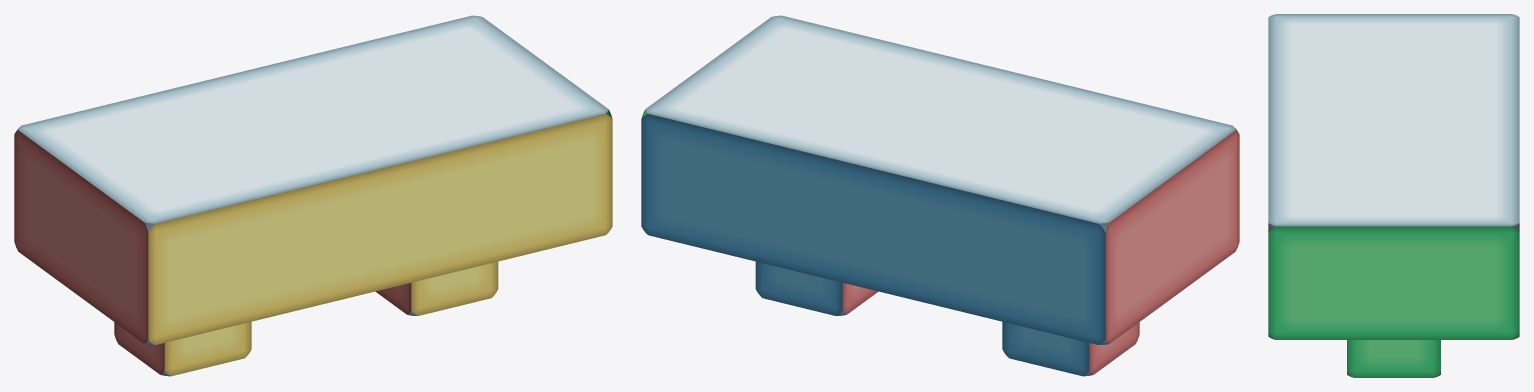
Rendered from Bench.fbx.
3 views of the same model, side by side, from view 1: azimuth 30°, elevation 25°; view 2: azimuth 150°, elevation 25°; view 3: azimuth 270°, elevation 25° (orthographic). The views are drawn at different scales.
Parts seen in each view (by area): view 1: cuboid, cuboid_2, cuboid_1; view 2: cuboid, cuboid_2, cuboid_1; view 3: cuboid, cuboid_1.
Boxes of the visible parts, x1=… form: cuboid: x1=14, y1=15, x2=612, y2=344; cuboid_2: x1=114, y1=321, x2=251, y2=376; cuboid_1: x1=375, y1=261, x2=498, y2=315; cuboid: x1=641, y1=15, x2=1239, y2=344; cuboid_2: x1=1002, y1=321, x2=1139, y2=376; cuboid_1: x1=755, y1=261, x2=878, y2=315; cuboid: x1=1268, y1=14, x2=1519, y2=339; cuboid_1: x1=1347, y1=340, x2=1440, y2=377.
Size of the model in its own units: 200 by 81.25 by 100.
1 material, 1 textured.
